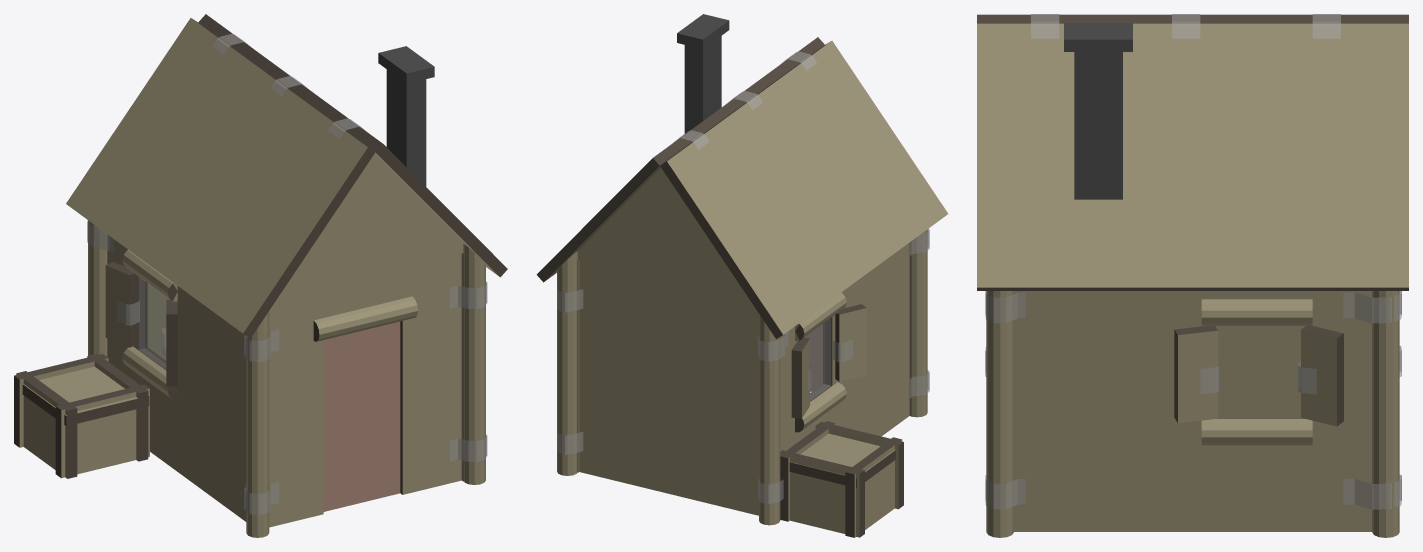
The model's file is Refinery.fbx.
3 views of the same model, side by side, from view 1: azimuth 30°, elevation 25°; view 2: azimuth 150°, elevation 25°; view 3: azimuth 270°, elevation 25° (orthographic). The views are drawn at different scales.
Parts seen in each view (by area): view 1: Refinery_Model, Door_Refinery; view 2: Refinery_Model, Door_Refinery; view 3: Refinery_Model.
Part boxes in pixels (left/top/right/bottom): Refinery_Model: left=14, top=14, right=507, bottom=537; Door_Refinery: left=323, top=321, right=400, bottom=511; Refinery_Model: left=536, top=14, right=948, bottom=537; Door_Refinery: left=804, top=324, right=822, bottom=391; Refinery_Model: left=977, top=14, right=1408, bottom=537.
Size of the model in its own units: 336 by 385 by 311.
